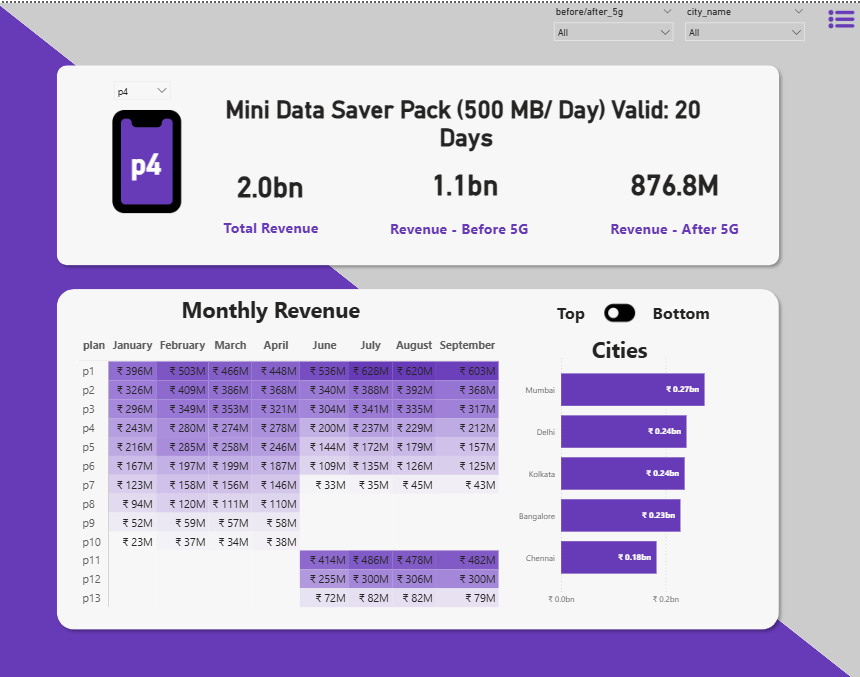

The dashboard page shown, as its layout file describes it:
{"tool":"powerbi","page":{"name":"Plan","canvas":[1280,1000],"ordinal":2},"visuals":[{"type":"group","id":"g1","title":"BG","box":[0,0,1280,1010],"z":0},{"type":"shape","box":[0,0,1280,1010],"z":0,"group":"g1"},{"type":"group","id":"g2","title":"MArket_share_value","box":[80,82.5,1088,314],"z":0,"group":"g3"},{"type":"shape","box":[80,82.5,1088,314],"z":0,"group":"g2"},{"type":"image","box":[891.7,432,60,55],"z":0,"group":"g4"},{"type":"shape","box":[0,0,1280,1010],"z":1000,"group":"g1"},{"type":"slicer","fields":{"Values":["dim_date.before/after_5g"]},"box":[815,0,197.5,77.5],"z":1000},{"type":"slicer","fields":{"Values":["dim_plan.plan"]},"box":[164,104.5,104,48],"z":1000,"group":"g3"},{"type":"clusteredBarChart","fields":{"Category":["dim_cities.city_name"],"Y":["Measrue_table.Total_plan_revenes"]},"box":[762.5,512.5,347.5,390],"z":1000,"group":"g4"},{"type":"slicer","fields":{"Values":["dim_cities.city_name"]},"box":[1010,0,197.5,77.5],"z":2000},{"type":"card","fields":{"Values":["Measrue_table.Paln_selected"]},"box":[177,164.5,90,137.5],"z":2000,"group":"g3"},{"type":"textbox","box":[820,437,60,56],"z":2000,"group":"g4"},{"type":"group","id":"g3","title":"Plan","box":[80,82.5,1087.5,315],"z":3000},{"type":"image","box":[140.3,152.8,162.5,162.5],"z":3000,"group":"g3"},{"type":"textbox","box":[952,437,124,56],"z":3000,"group":"g4"},{"type":"card","fields":{"Values":["Min(dim_plan.plan_description)"]},"box":[282,114.5,828,120],"z":4000,"group":"g3"},{"type":"shape","box":[80,415,1087.5,522.5],"z":4000},{"type":"card","fields":{"Values":["Measrue_table.Sel_plan_revenue"]},"box":[314.5,219.5,180,95],"z":5000,"group":"g3"},{"type":"pivotTable","fields":{"Rows":["dim_plan.plan"],"Columns":["dim_date.date.Variation.Date Hierarchy.Month"],"Values":["Measrue_table.Total_plan_revenes"]},"box":[117.5,487.5,645,415],"z":5000},{"type":"card","fields":{"Values":["Measrue_table.Sl_plan_revenue_before_5g"]},"box":[592,207,205,115],"z":6000,"group":"g3"},{"type":"card","fields":{"Values":["Measrue_table.Sl_plan_revenue_after_5g"]},"box":[902,207,205,115],"z":7000,"group":"g3"},{"type":"group","id":"g4","title":"Top switch","box":[762.5,432,347.5,470.5],"z":7000},{"type":"textbox","box":[322,312,167.5,50],"z":8000,"group":"g3"},{"type":"textbox","box":[771.7,486.7,300,61.7],"z":8000},{"type":"image","box":[1222.7,0,57.3,48.2],"z":9000},{"type":"textbox","box":[572,314.5,225,55],"z":9000,"group":"g3"},{"type":"textbox","box":[889.5,314.5,230,57.5],"z":10000,"group":"g3"},{"type":"textbox","box":[256,428,300,62],"z":11000}]}

Visuals, with their boxes in screenshot pixels (x1, y1, x2, y2), scaled from the page's 1280x1000 canvas onto the 860x677 screenshot:
"BG" group: <region>0, 0, 859, 676</region>
shape: <region>0, 0, 859, 676</region>
"MArket_share_value" group: <region>54, 56, 785, 268</region>
shape: <region>54, 56, 785, 268</region>
image: <region>599, 292, 639, 330</region>
shape: <region>0, 0, 859, 676</region>
slicer - dim_date.before/after_5g: <region>548, 0, 680, 52</region>
slicer - dim_plan.plan: <region>110, 71, 180, 103</region>
clusteredBarChart - dim_cities.city_name x Measrue_table.Total_plan_revenes: <region>512, 347, 746, 611</region>
slicer - dim_cities.city_name: <region>679, 0, 811, 52</region>
card - Measrue_table.Paln_selected: <region>119, 111, 179, 204</region>
textbox: <region>551, 296, 591, 334</region>
"Plan" group: <region>54, 56, 784, 269</region>
image: <region>94, 103, 203, 213</region>
textbox: <region>640, 296, 723, 334</region>
card - Min(dim_plan.plan_description): <region>189, 78, 746, 159</region>
shape: <region>54, 281, 784, 635</region>
card - Measrue_table.Sel_plan_revenue: <region>211, 149, 332, 213</region>
pivotTable - dim_plan.plan x dim_date.date.Variation.Date Hierarchy.Month: <region>79, 330, 512, 611</region>
card - Measrue_table.Sl_plan_revenue_before_5g: <region>398, 140, 535, 218</region>
card - Measrue_table.Sl_plan_revenue_after_5g: <region>606, 140, 744, 218</region>
"Top switch" group: <region>512, 292, 746, 611</region>
textbox: <region>216, 211, 329, 245</region>
textbox: <region>518, 329, 720, 371</region>
image: <region>822, 0, 859, 33</region>
textbox: <region>384, 213, 535, 250</region>
textbox: <region>598, 213, 752, 252</region>
textbox: <region>172, 290, 374, 332</region>
